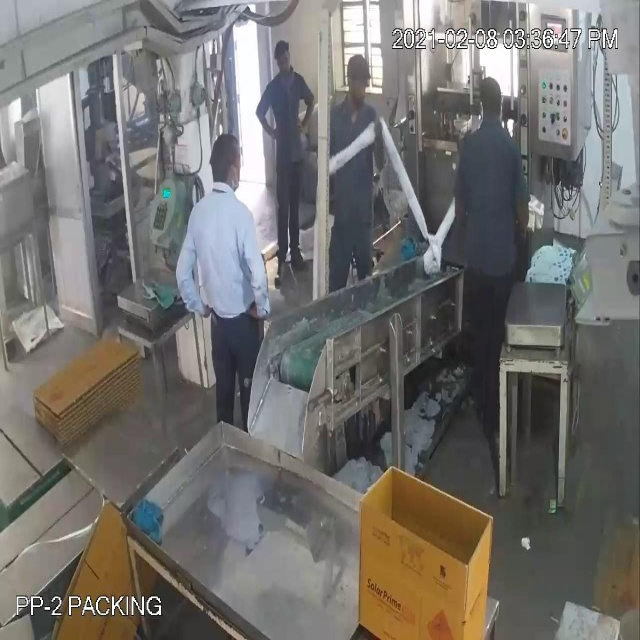Sin_guantes: (236, 228, 283, 338), (178, 231, 214, 331), (259, 87, 290, 142), (297, 78, 324, 139)
